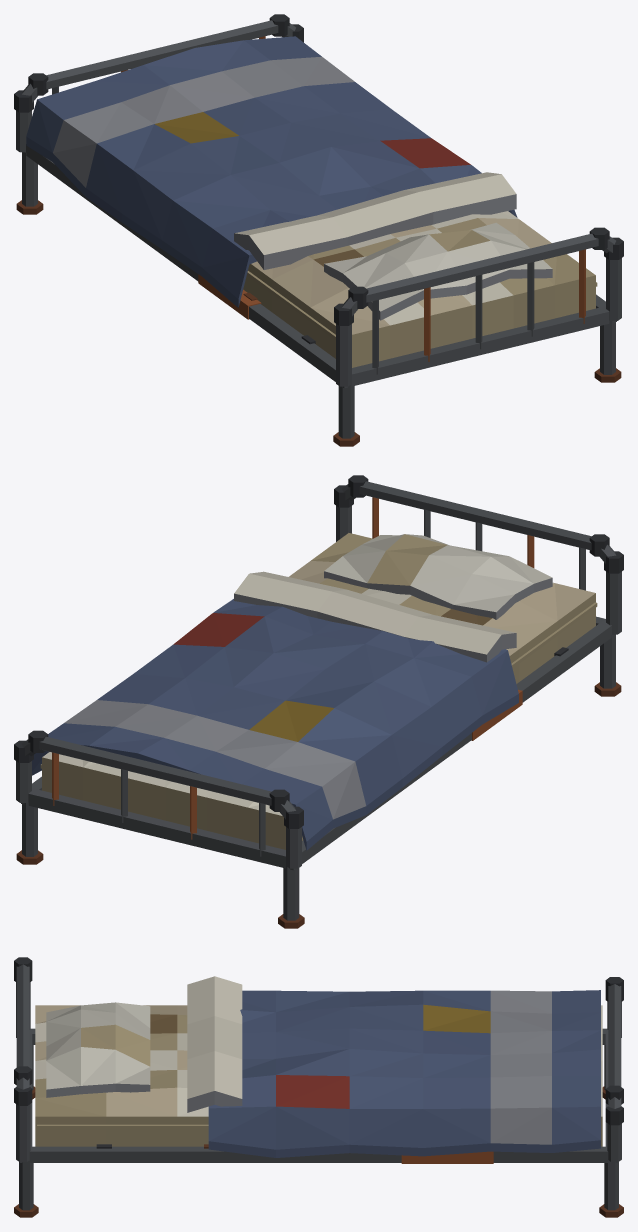
File: piece_bed.fbx
3 views of the same model, one above another, from view 1: azimuth 30°, elevation 25°; view 2: azimuth 150°, elevation 25°; view 3: azimuth 270°, elevation 25° (orthographic). The views are drawn at different scales.
Parts seen in each view (by area): view 1: piece_bed; view 2: piece_bed; view 3: piece_bed.
Boxes of the visible parts, x1,y1,x2,y2 form: piece_bed: (14,14,623,446); piece_bed: (14,475,623,928); piece_bed: (14,957,623,1217).
Size of the model in its own units: 0.992 by 0.5 by 1.99.
